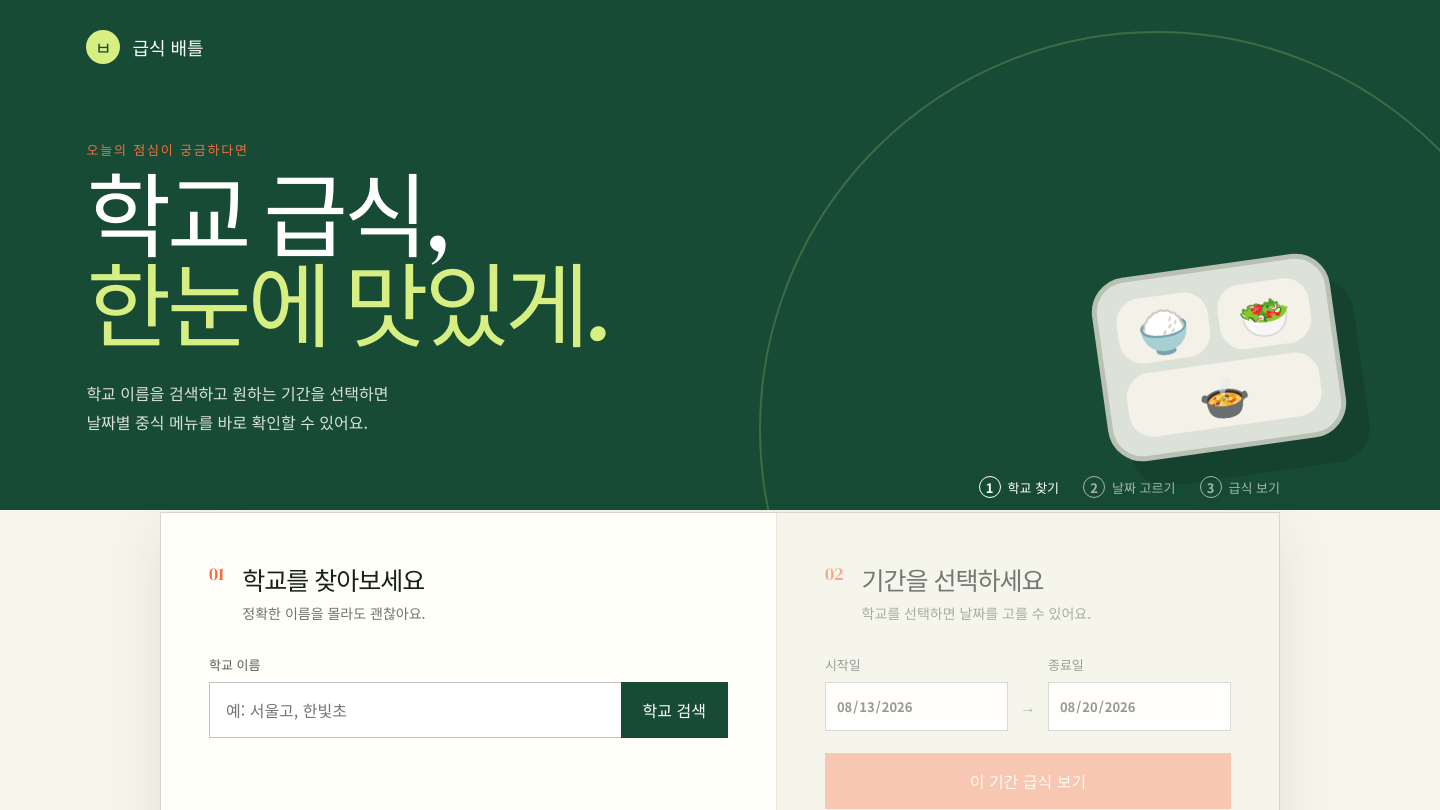
Test: App › validates an empty school query without sending a request
Click the button "학교 검색".
click(674, 710)  # box x1=620 y1=682 x2=728 y2=738
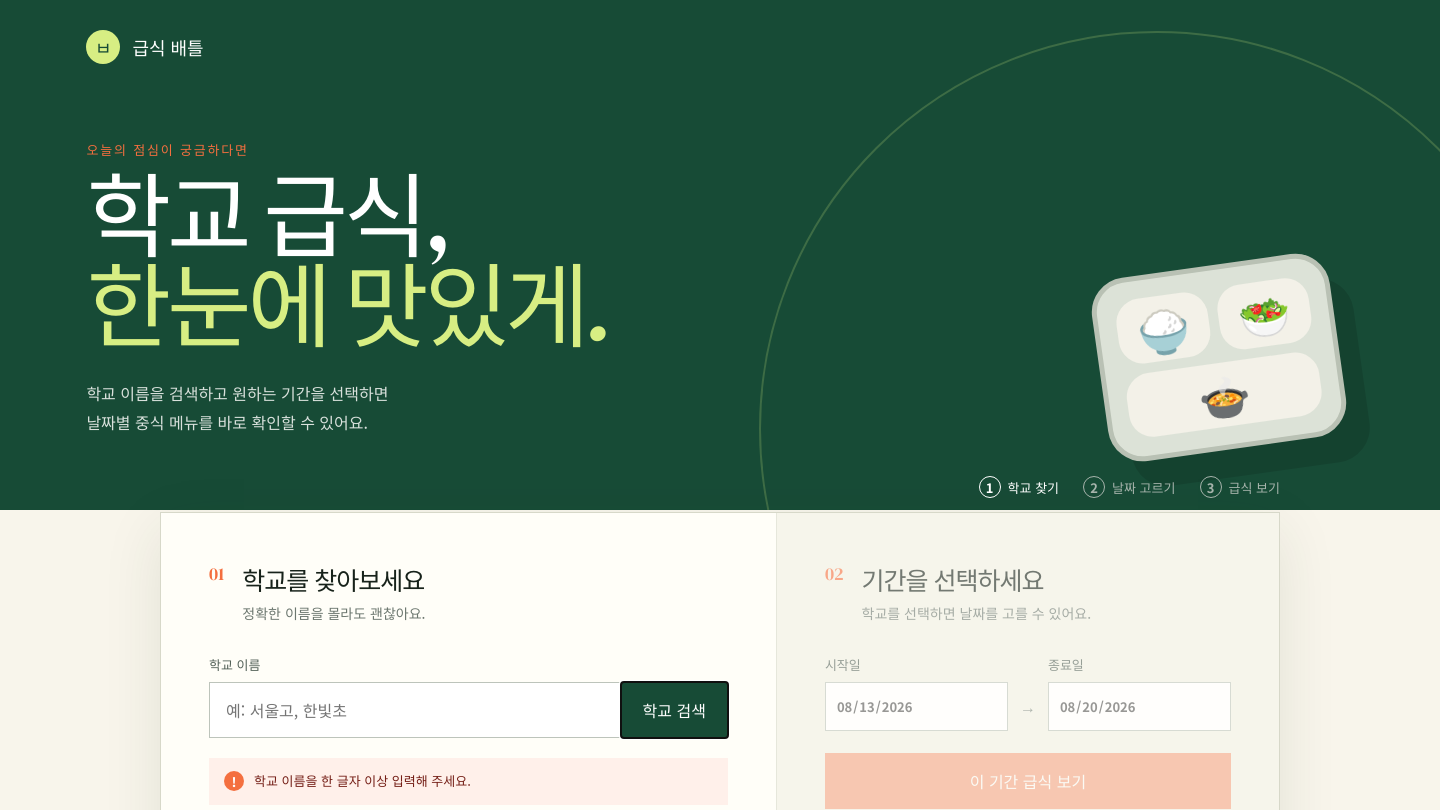
Result: the message shows "학교 이름을 한 글자 이상" at x1=254 y1=771 x2=471 y2=790
